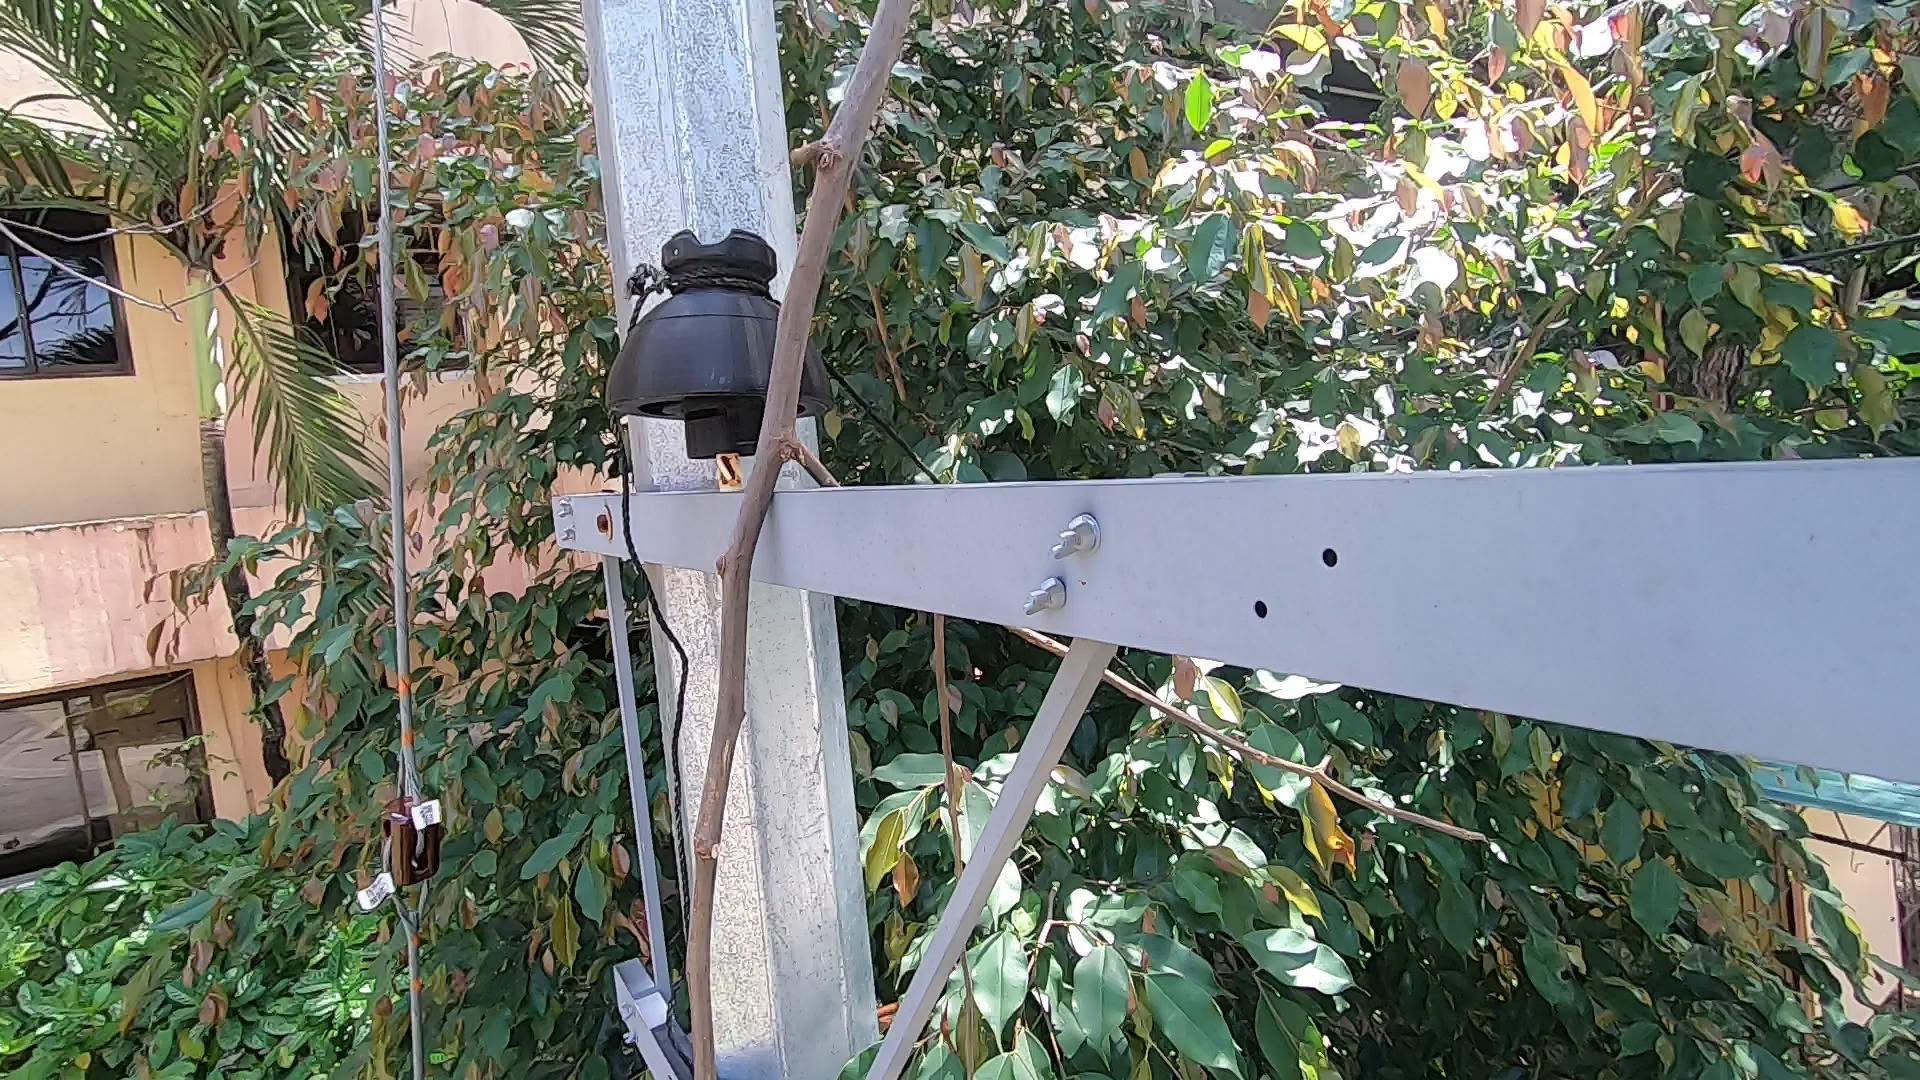tree branch: (632, 3, 1017, 1080)
